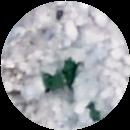Basil: (64, 57, 79, 84), (42, 72, 63, 86)
